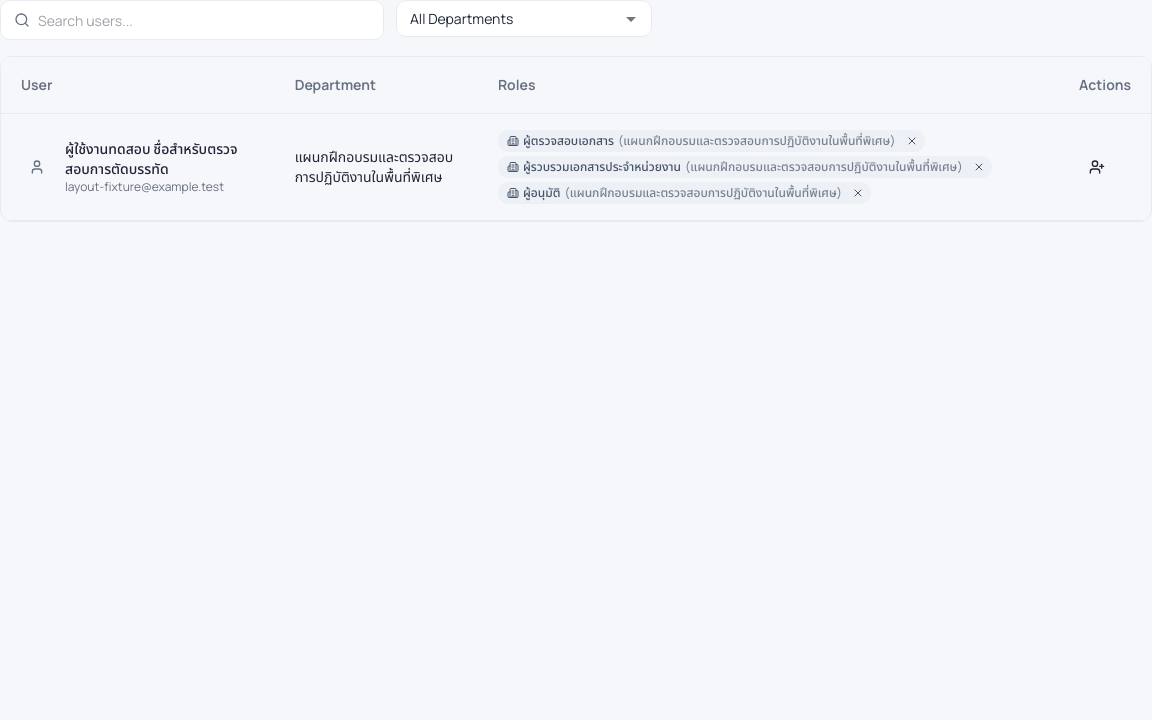
keeps long user names, multiple roles, and a named assignment action in the scrollable table
Expected: the number of buttons named "Remove " is 3, [904, 133, 920, 149]; [971, 159, 987, 175]; [850, 185, 866, 201]
Click the button named "Assign role to".
click(1097, 167)  # box [1079, 148, 1115, 186]
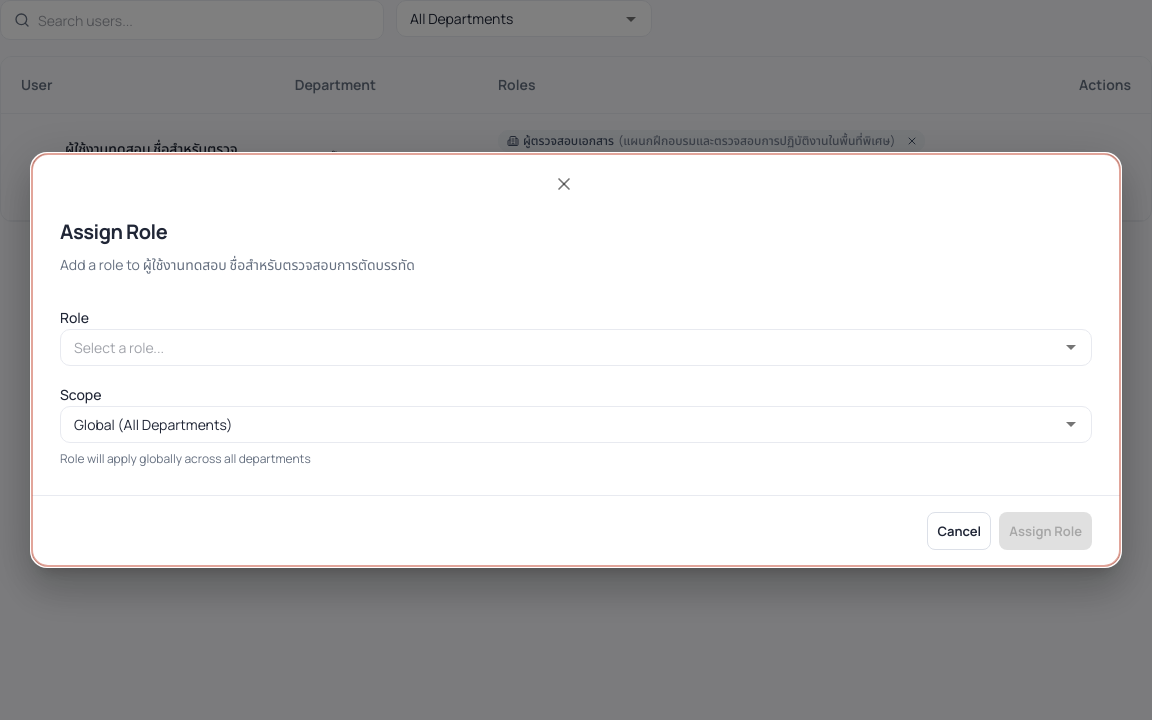
Now the dialog "Assign Role" is shown, box [32, 154, 1120, 566]
Press Escape
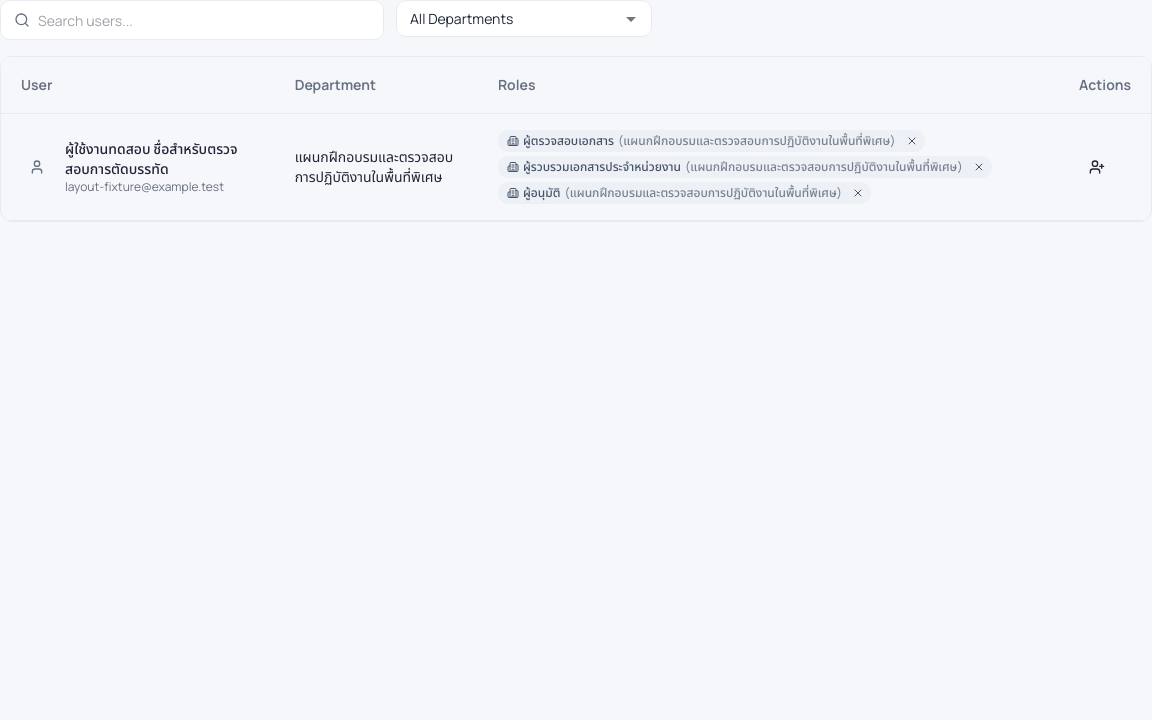
Now the dialog is gone
